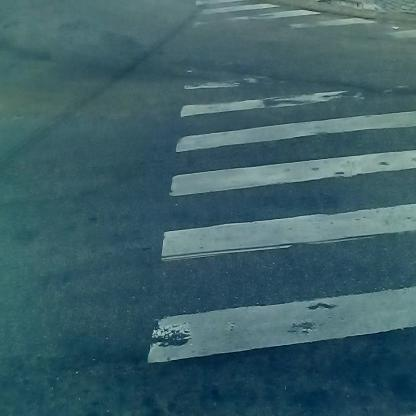crosswalk: (124, 2, 416, 416)
